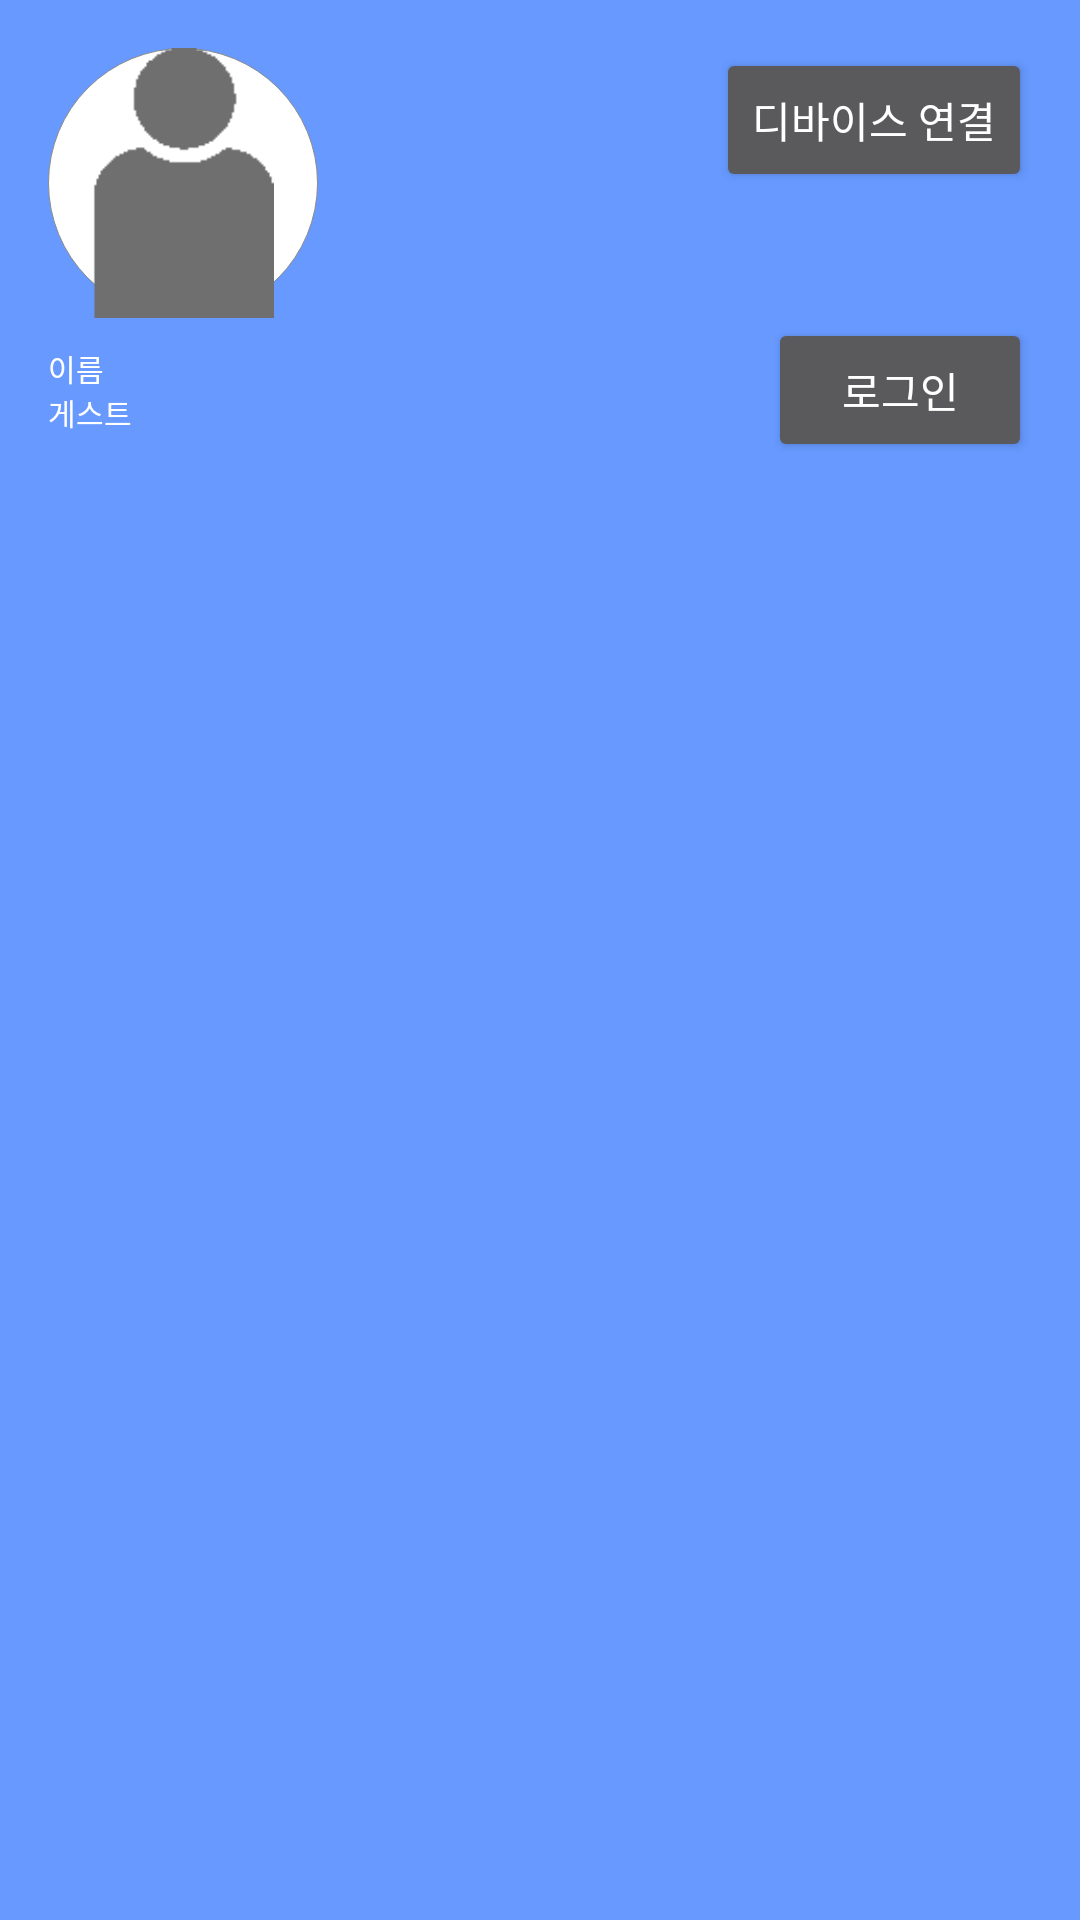

Icon click points for this 1080w x 1920h phone screenshot, format (x=x, y=y):
man: (x=183, y=183)
